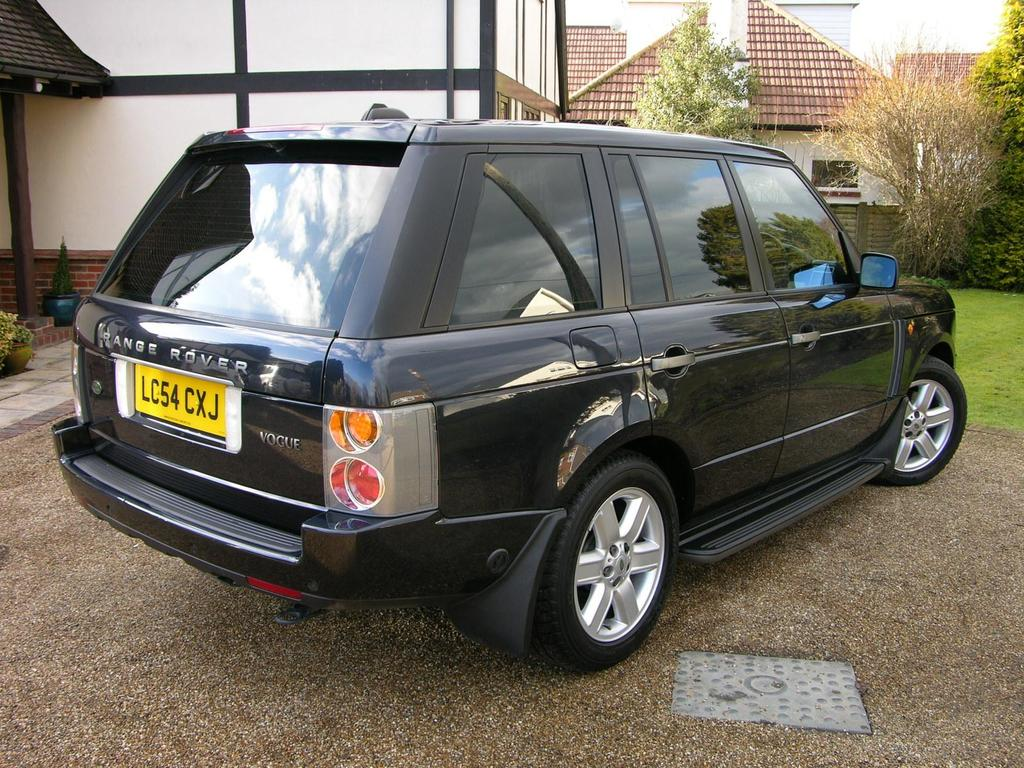Car: (44, 119, 968, 672)
